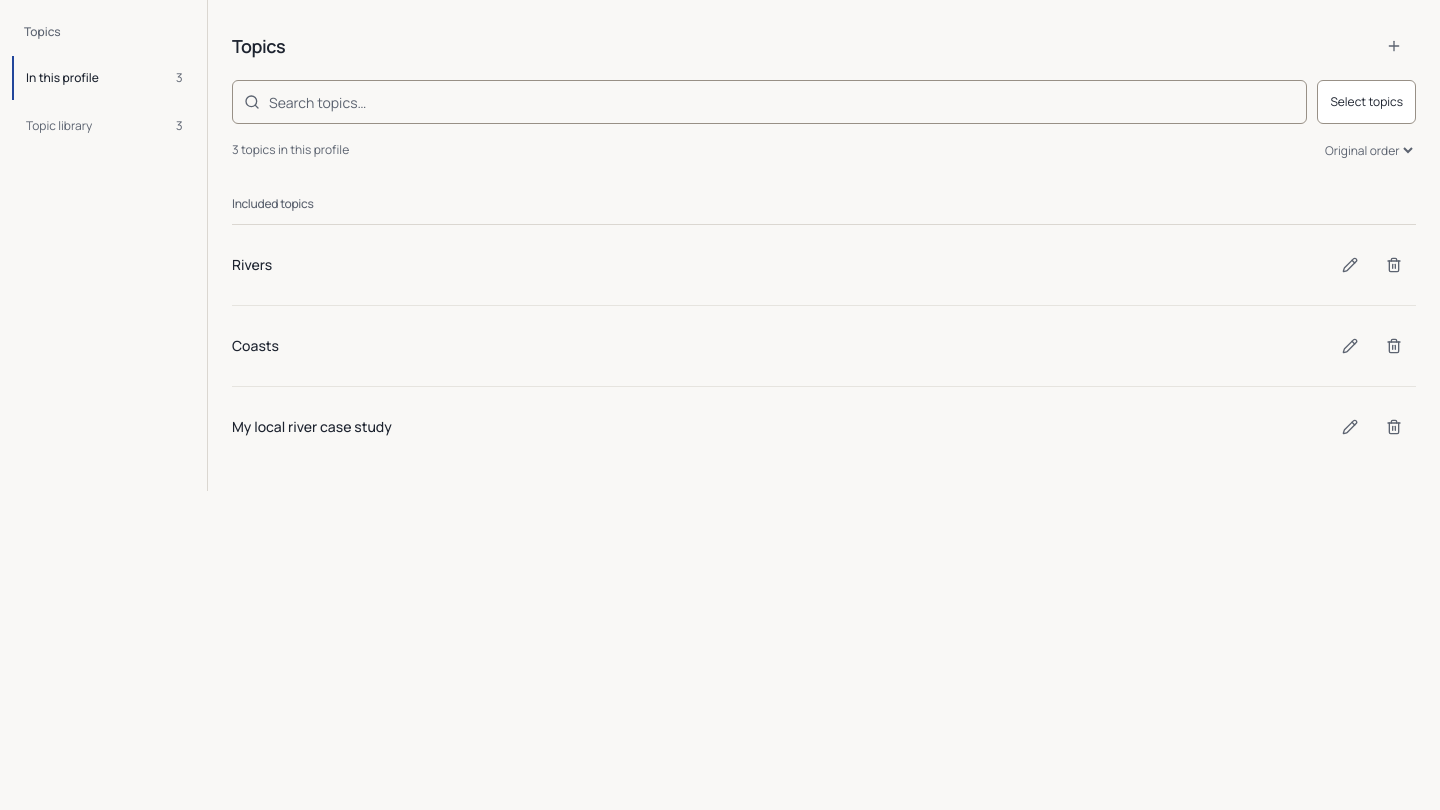
Test case: CustomProfileTopics › retries the owner-scoped library upsert on a later explicit add after a failure
Click the button named "Add topic" at (1394, 46), box [1372, 24, 1416, 68]
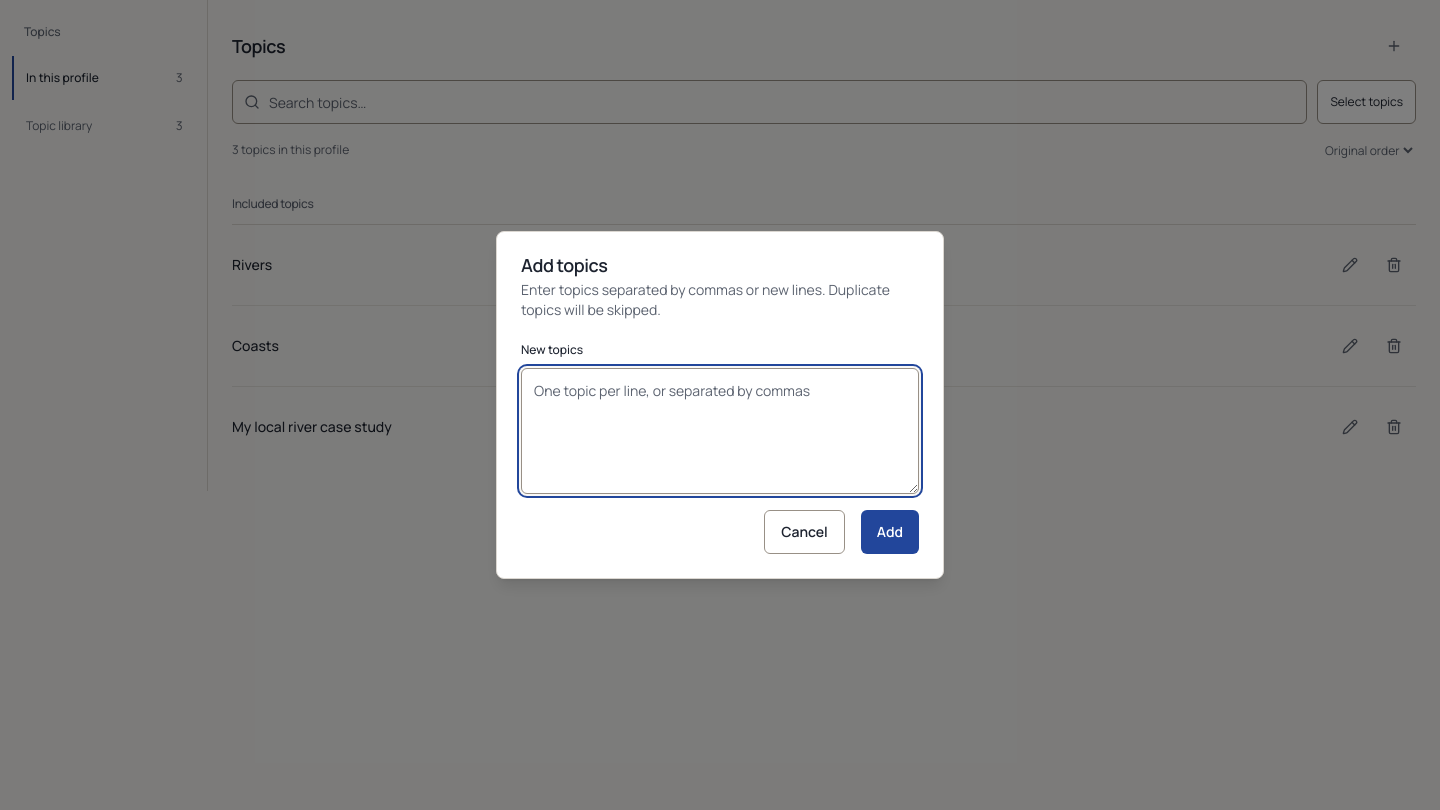
Type "My fieldwork" into the text box labelled "New topics" at (720, 431), box [521, 368, 919, 494]
Click the button "Add" at (890, 532), box [861, 510, 919, 554]
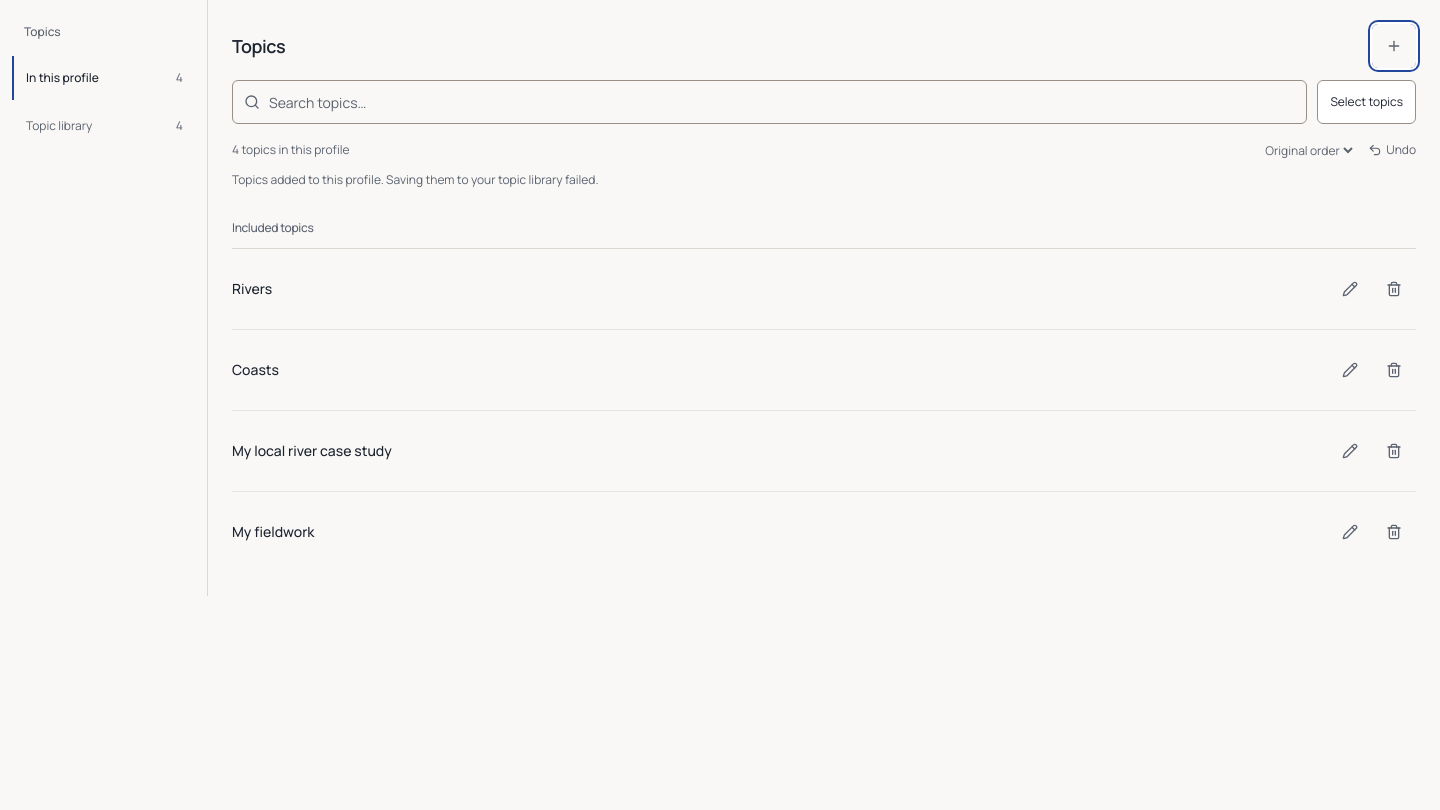
Expected: the text "Topics added to this profile. Saving them to your topic library failed." is shown, [232, 171, 598, 188]
Click the button named "Remove My fieldwork" at (1394, 532), box [1372, 510, 1416, 554]
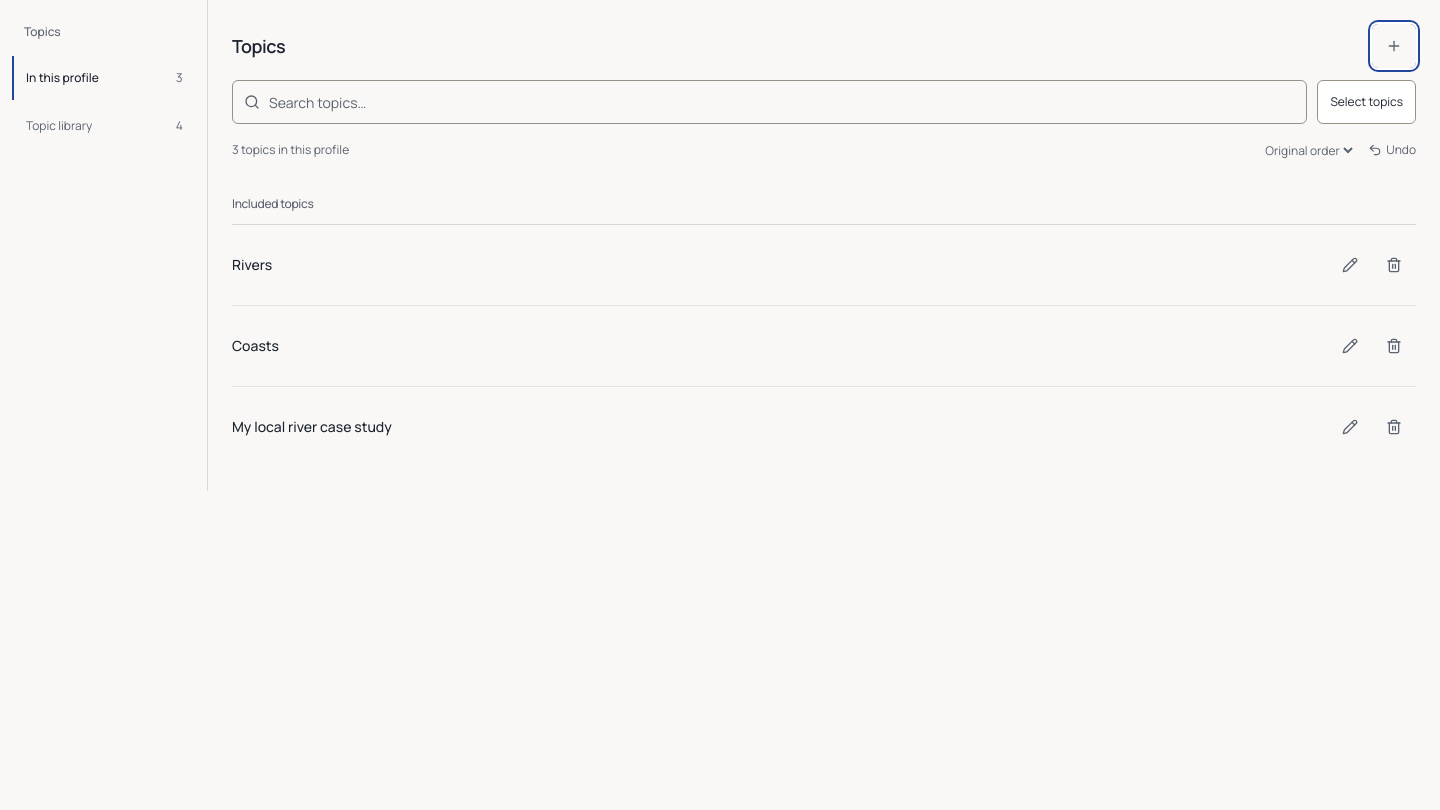
Click the button named "Add topic" at (1394, 46), box [1372, 24, 1416, 68]
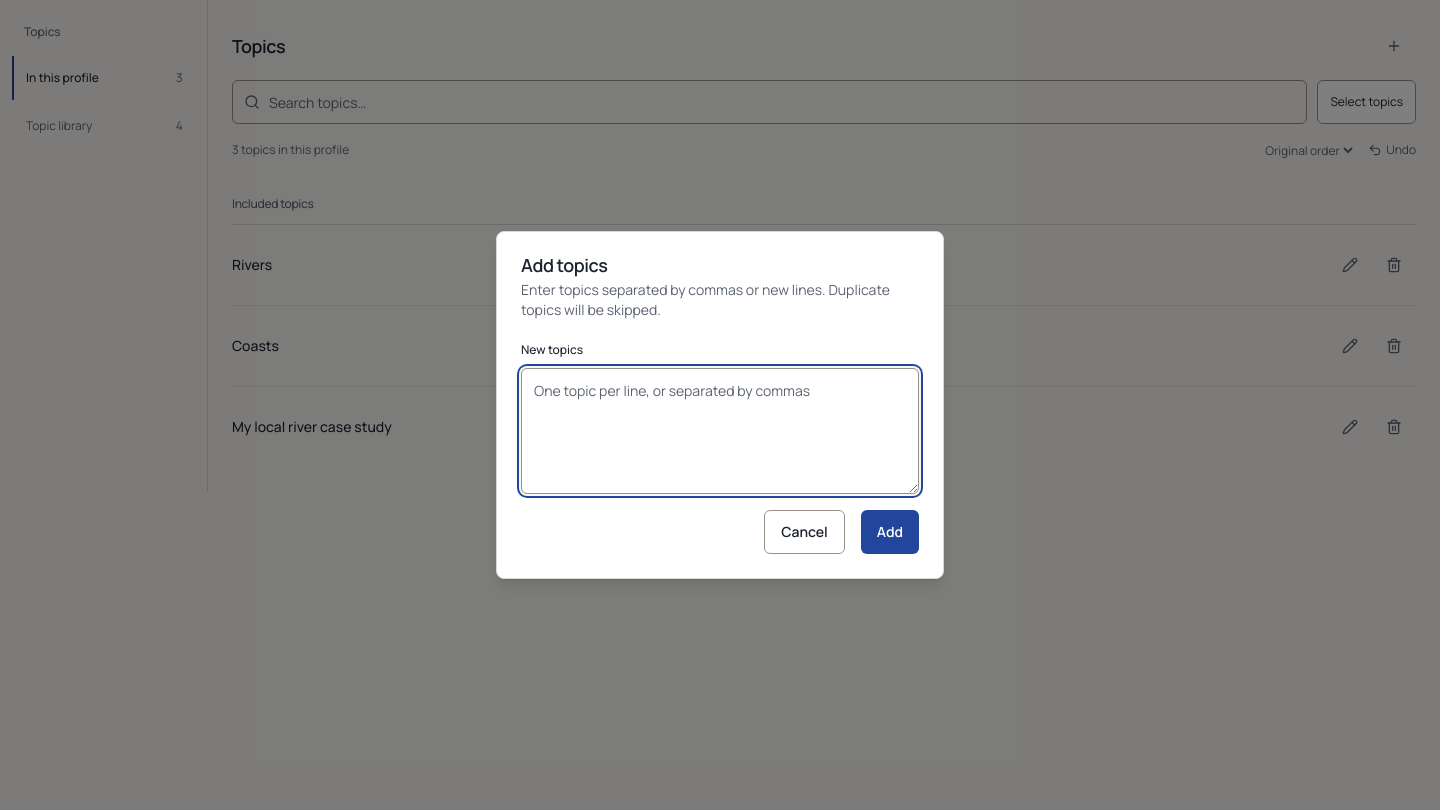
Type "My fieldwork" into the text box labelled "New topics" at (720, 431), box [521, 368, 919, 494]
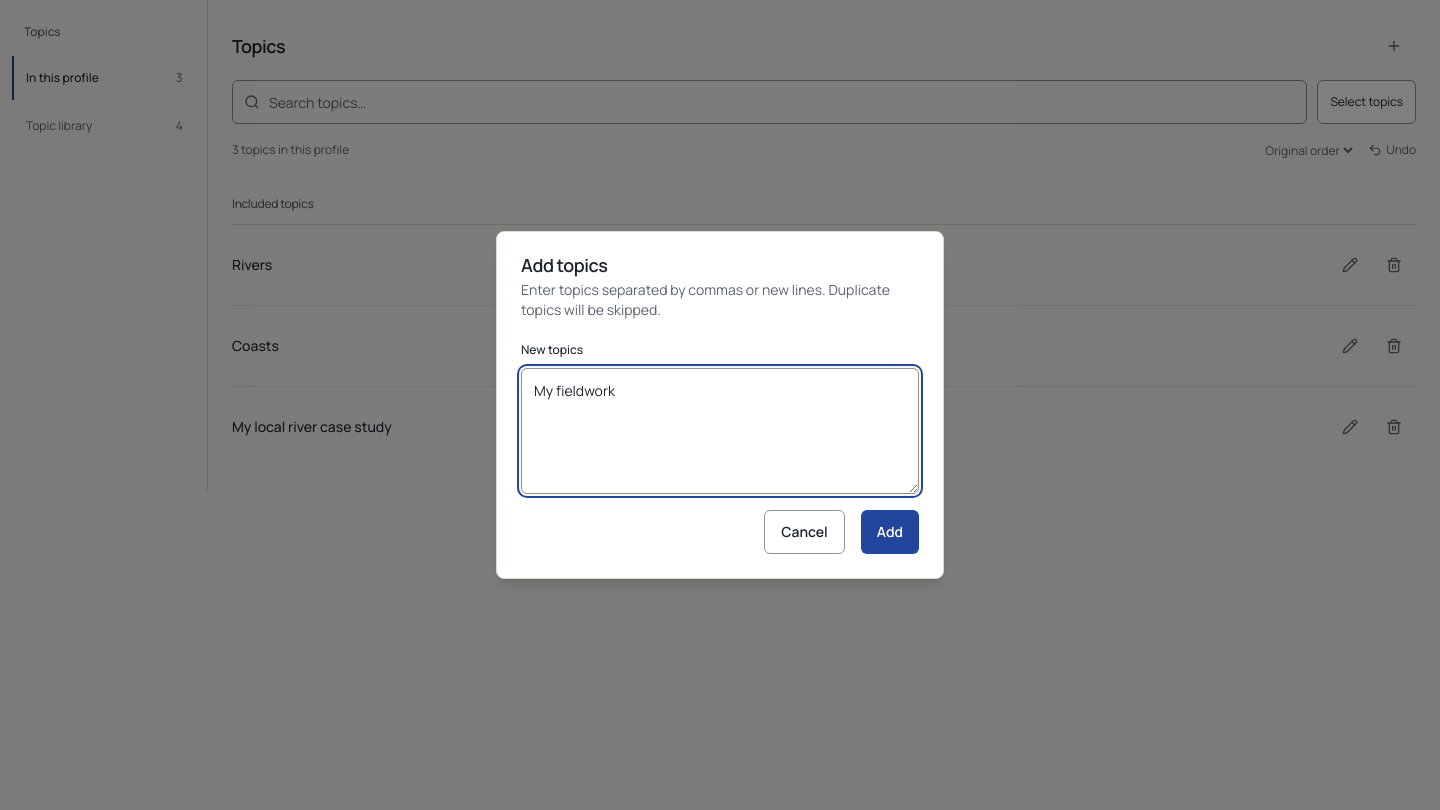
Click the button "Add" at (890, 532), box [861, 510, 919, 554]
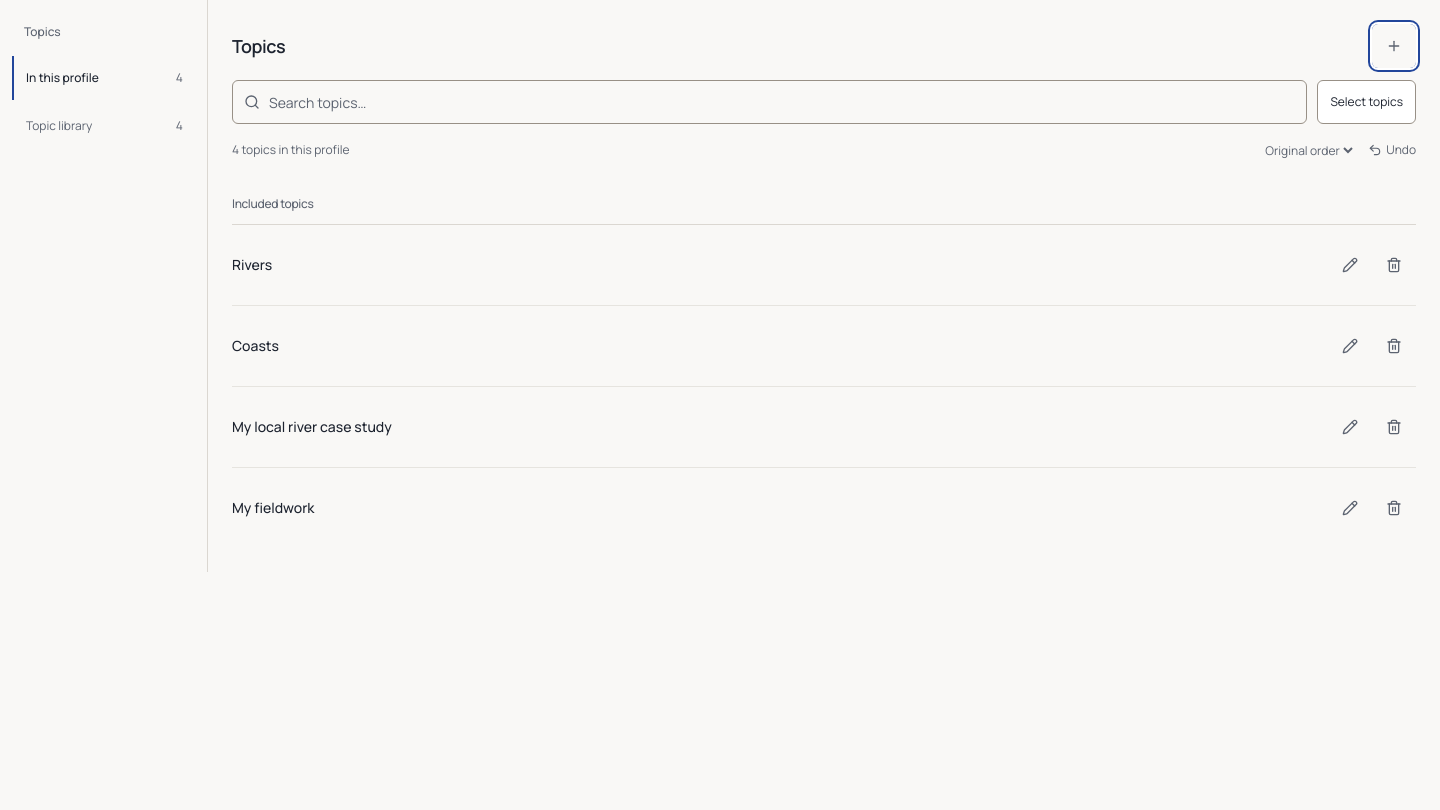
Expected: the element "My fieldwork" is shown, [232, 486, 1416, 530]
